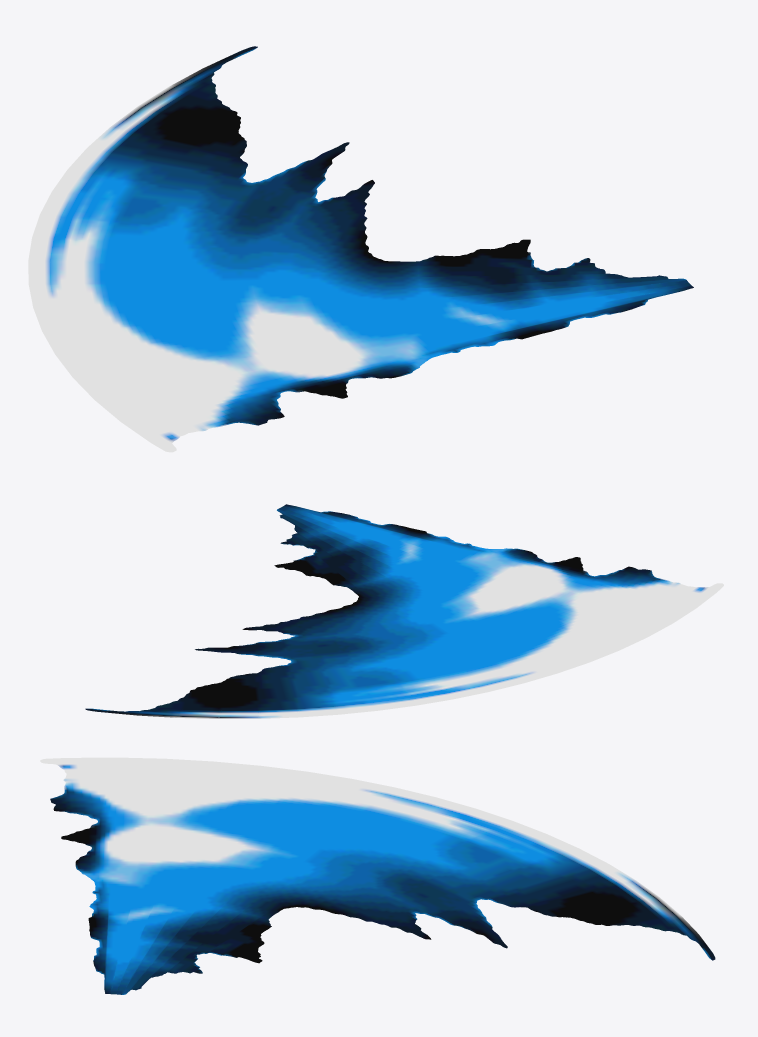
Rendered from Fbx_Dg_fsw_009.FBX.
3 renders of one model, top to bottom at view 1: azimuth 30°, elevation 25°; view 2: azimuth 150°, elevation 25°; view 3: azimuth 270°, elevation 25°, orthographic. The views are drawn at different scales.
Visible parts, largest first — view 1: Fbx_Dg_fsw_009; view 2: Fbx_Dg_fsw_009; view 3: Fbx_Dg_fsw_009.
Boxes of the visible parts, x1,y1,x2,y2 form: Fbx_Dg_fsw_009: (28, 46, 693, 452); Fbx_Dg_fsw_009: (85, 504, 723, 718); Fbx_Dg_fsw_009: (40, 757, 715, 994).
Bounding box in the file's own units: 8294 × 1.43e-10 × 9466.
